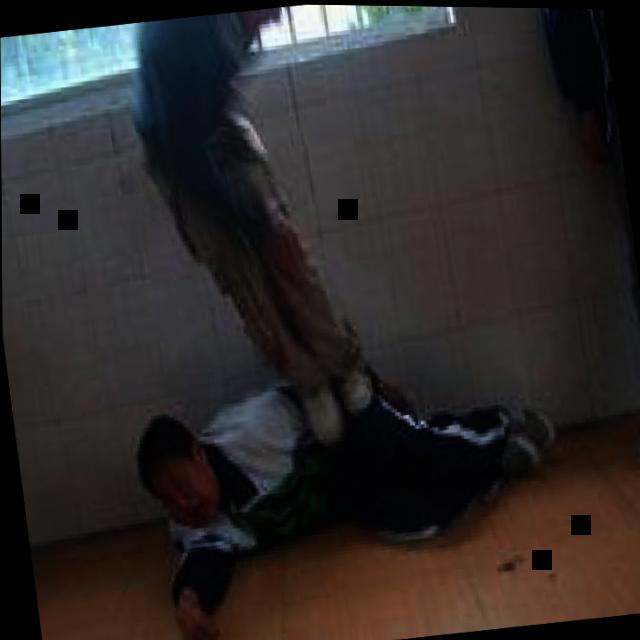Fall-Detected: (112, 309, 582, 640)
